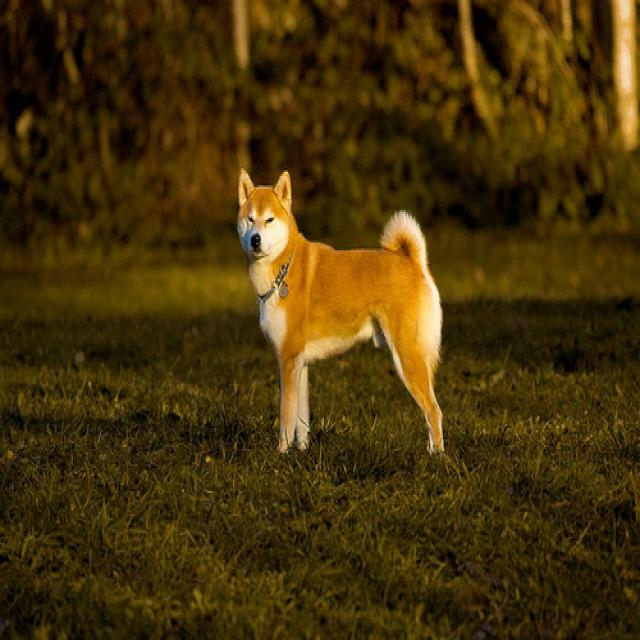dog-shiba_inu: (229, 160, 447, 460)
